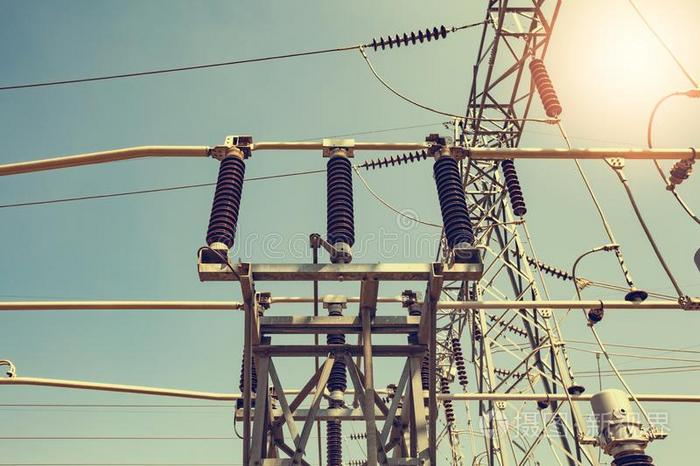insulator: (372, 26, 446, 54), (362, 148, 433, 173), (523, 253, 572, 281), (492, 316, 546, 341), (452, 338, 470, 386), (440, 375, 457, 423), (493, 368, 528, 384)
